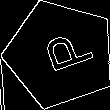P_W: (28, 28, 92, 81)
